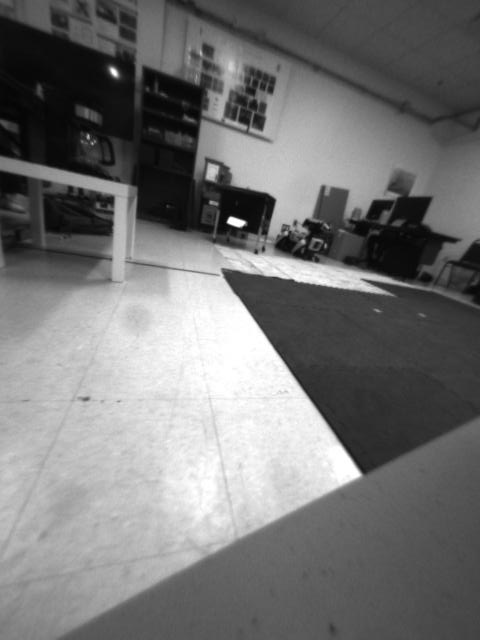coffee_pot: (69, 100, 116, 177)
